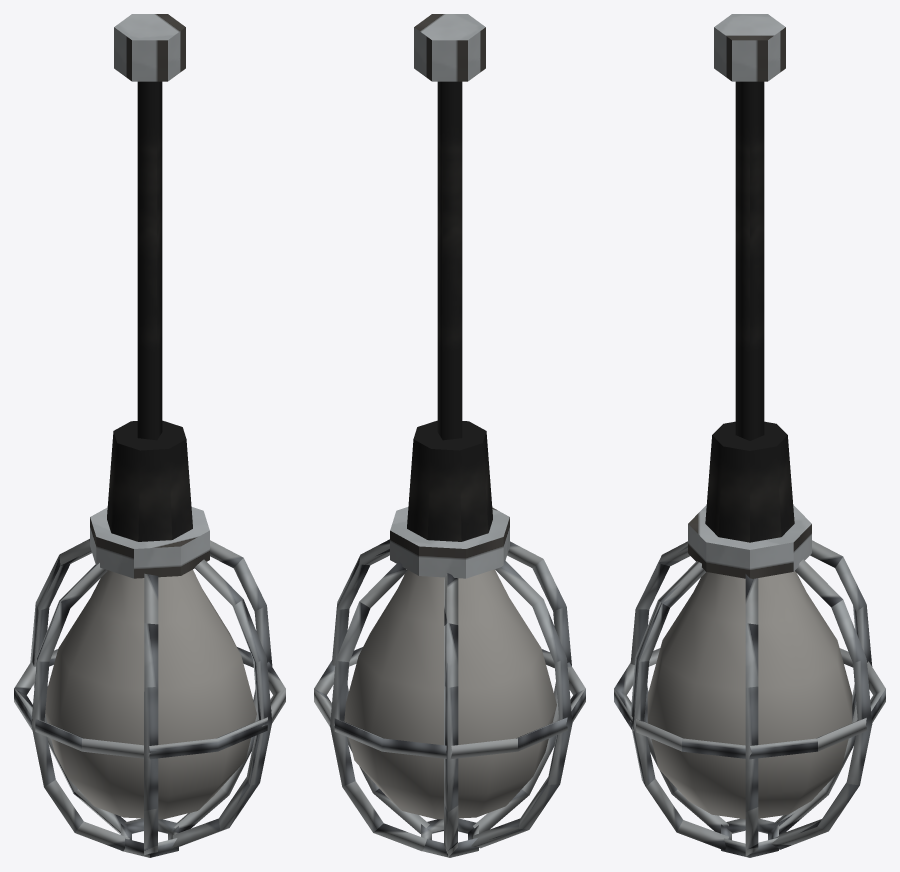
File: Corridor_Bulb.fbx
3 views of the same model, side by side, from view 1: azimuth 30°, elevation 25°; view 2: azimuth 150°, elevation 25°; view 3: azimuth 270°, elevation 25° (orthographic).
Visible parts, largest first — view 1: Cage, Glass; view 2: Cage, Glass; view 3: Cage, Glass.
Part boxes in pixels (left/top/right/bottom): Cage: left=14, top=14, right=285, bottom=857; Glass: left=45, top=569, right=256, bottom=819; Cage: left=314, top=14, right=585, bottom=857; Glass: left=344, top=569, right=556, bottom=819; Cage: left=614, top=14, right=885, bottom=857; Glass: left=647, top=571, right=852, bottom=819.
Size of the model in its own units: 0.4262 by 1.38 by 0.4168.
Materials: 2 (1 with a texture image).
